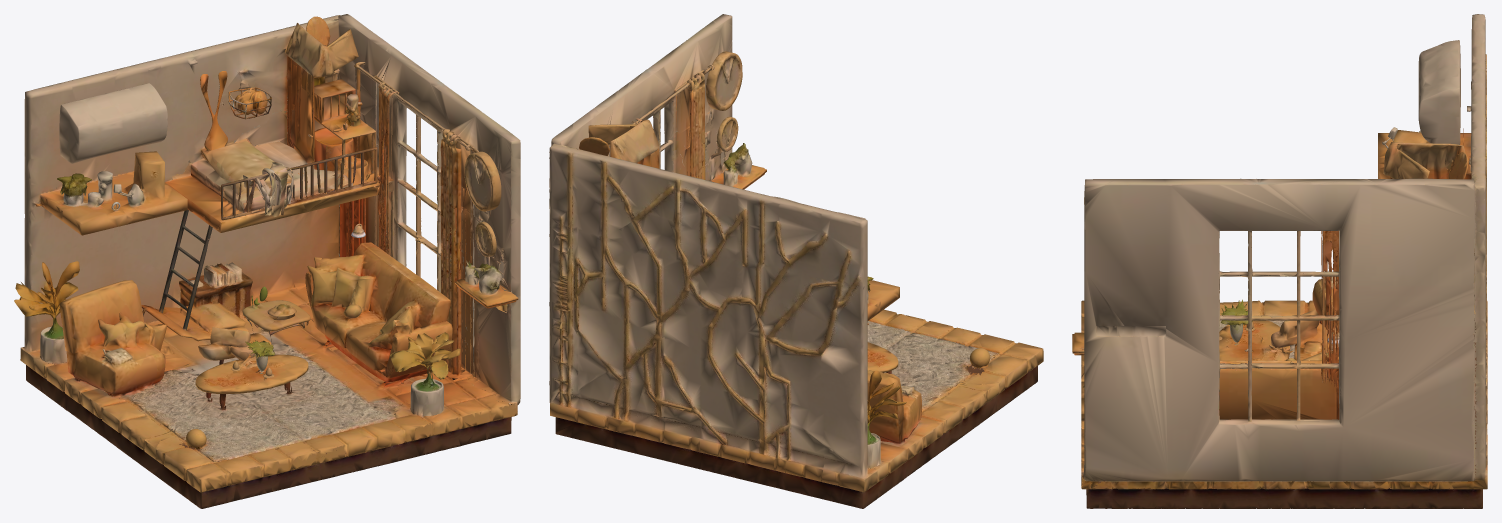
File: mieszkanie.glb
3 renders of one model, left to right at view 1: azimuth 30°, elevation 25°; view 2: azimuth 150°, elevation 25°; view 3: azimuth 270°, elevation 25°, orthographic. The views are drawn at different scales.
Visible parts, largest first — view 1: tripo_part_39, tripo_part_16, tripo_part_10, tripo_part_14, tripo_part_25, tripo_part_26, tripo_part_24, tripo_part_3, tripo_part_4, tripo_part_6, tripo_part_9, tripo_part_8 (+13 smaller); view 2: tripo_part_16, tripo_part_14, tripo_part_39, tripo_part_10, tripo_part_3, tripo_part_27, tripo_part_36, tripo_part_35, tripo_part_34, tripo_part_1, tripo_part_4, tripo_part_8 (+2 smaller); view 3: tripo_part_39, tripo_part_16, tripo_part_14, tripo_part_26, tripo_part_6, tripo_part_27, tripo_part_8, tripo_part_13, tripo_part_25, tripo_part_45, tripo_part_4, tripo_part_12 (+2 smaller).
Part boxes in pixels (x1,y1,x2,y2): tripo_part_39: (191, 14, 520, 410); tripo_part_16: (20, 15, 502, 401); tripo_part_10: (121, 297, 429, 461); tripo_part_14: (20, 348, 517, 508); tripo_part_25: (165, 56, 397, 252); tripo_part_26: (305, 242, 452, 383); tripo_part_24: (126, 173, 339, 323); tripo_part_3: (59, 280, 170, 398); tripo_part_4: (37, 151, 187, 235); tripo_part_6: (59, 83, 167, 163); tripo_part_9: (141, 209, 248, 341); tripo_part_8: (195, 354, 308, 405); tripo_part_16: (549, 144, 872, 492); tripo_part_14: (555, 319, 1043, 508); tripo_part_39: (551, 14, 732, 181); tripo_part_10: (867, 309, 998, 412); tripo_part_3: (867, 370, 921, 444); tripo_part_27: (588, 119, 659, 168); tripo_part_36: (705, 128, 766, 189); tripo_part_35: (706, 51, 742, 110); tripo_part_34: (676, 64, 714, 177); tripo_part_1: (867, 370, 900, 469); tripo_part_4: (867, 276, 899, 320); tripo_part_8: (867, 342, 898, 373); tripo_part_39: (1081, 173, 1477, 489); tripo_part_16: (1101, 14, 1487, 489); tripo_part_14: (1081, 300, 1482, 508); tripo_part_26: (1219, 350, 1338, 419); tripo_part_6: (1418, 40, 1460, 144); tripo_part_27: (1383, 142, 1469, 178); tripo_part_8: (1219, 320, 1293, 360); tripo_part_13: (1271, 309, 1328, 360); tripo_part_25: (1321, 128, 1463, 377); tripo_part_45: (1219, 238, 1336, 400); tripo_part_4: (1378, 130, 1471, 178); tripo_part_12: (1220, 299, 1252, 346).
Size of the model in its own units: 0.9992 by 0.8424 by 0.9347.
Materials: 46 (46 with a texture image).
